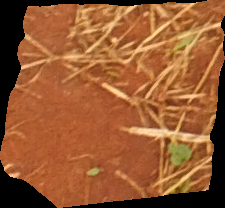soil: (2, 2, 224, 207)
